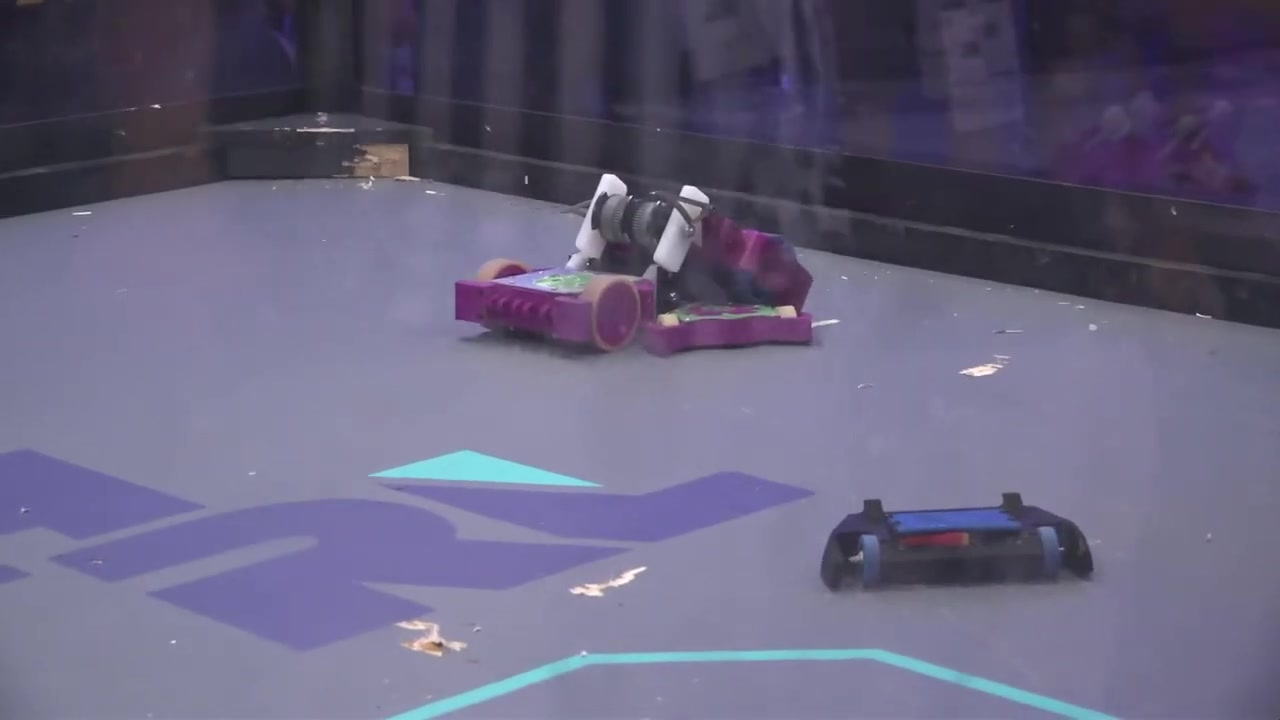combatbot: (565, 173, 818, 316), (452, 256, 653, 360)
minibot: (822, 492, 1095, 597), (638, 301, 832, 360)
